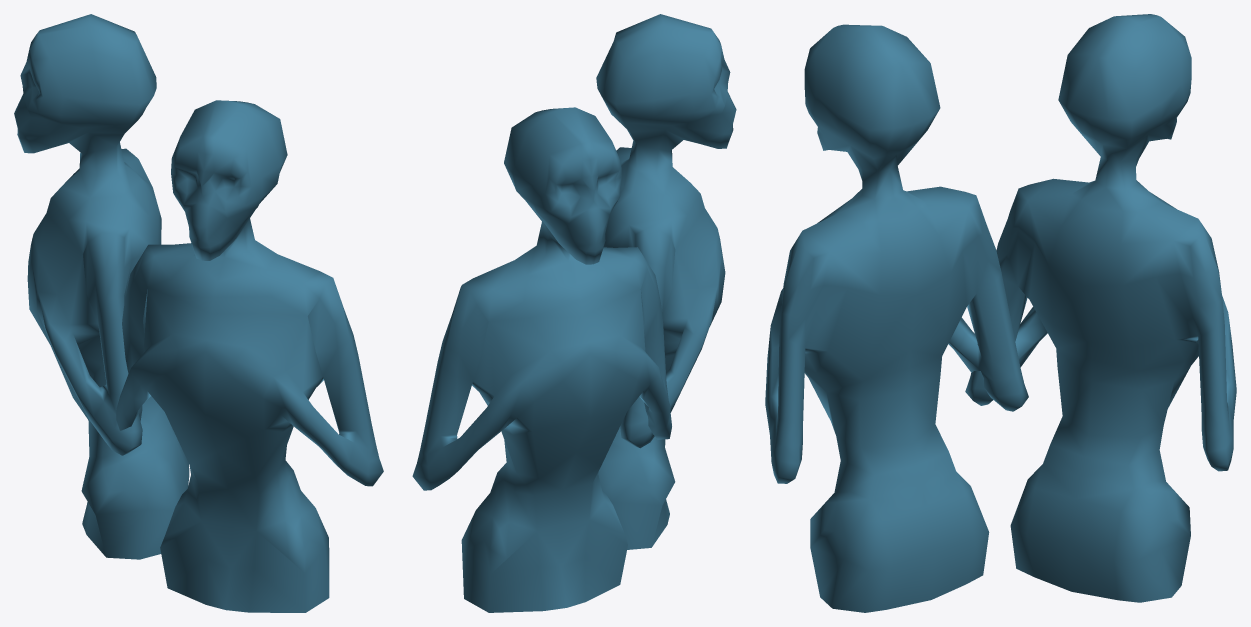
File: Statues_Grp_01B_Lod1.fbx
The picture shows the model from 3 angles, left to right: view 1: azimuth 30°, elevation 25°; view 2: azimuth 150°, elevation 25°; view 3: azimuth 270°, elevation 25°; orthographic projection. The views are drawn at different scales.
Visible parts, largest first — view 1: Statues_Grp_01B_Lod1; view 2: Statues_Grp_01B_Lod1; view 3: Statues_Grp_01B_Lod1.
Part boxes in pixels (bbox=[...]): Statues_Grp_01B_Lod1: bbox=[14, 14, 383, 612]; Statues_Grp_01B_Lod1: bbox=[412, 14, 736, 612]; Statues_Grp_01B_Lod1: bbox=[765, 14, 1236, 612].
Bounding box in the file's own units: 87.82 × 212 × 167.
